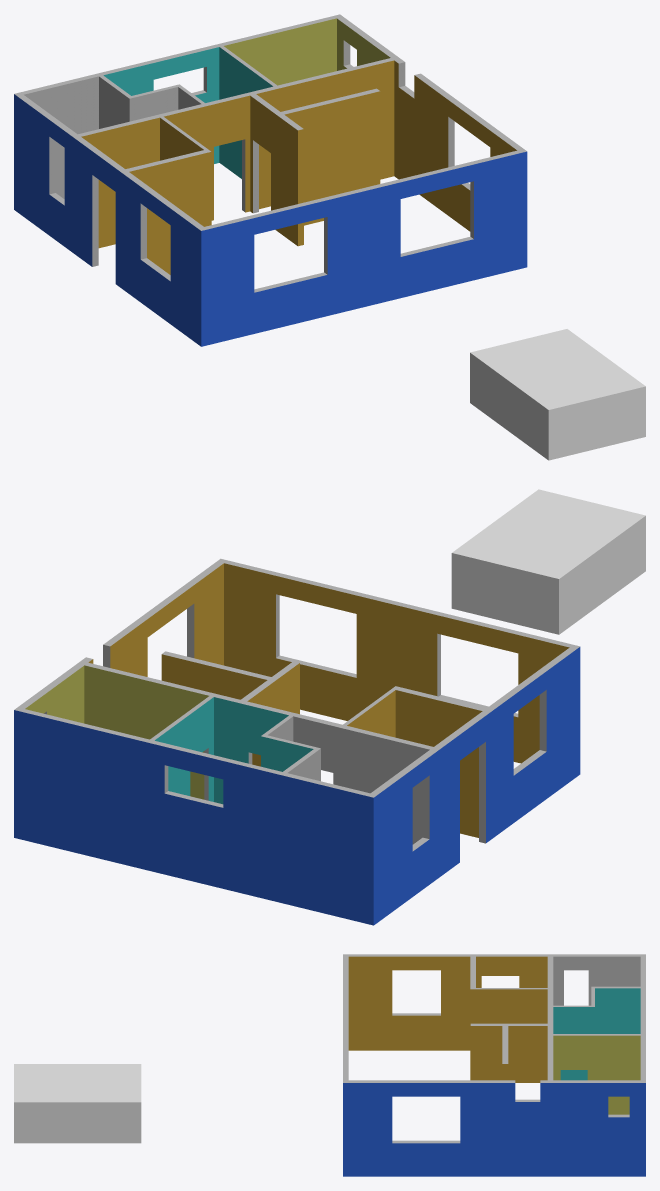
File: FloorWall1 1.glb
The picture shows the model from 3 angles, top to bottom: view 1: azimuth 30°, elevation 25°; view 2: azimuth 150°, elevation 25°; view 3: azimuth 270°, elevation 25°; orthographic projection. The views are drawn at different scales.
Visible parts, largest first — view 1: Wall1, Box048; view 2: Wall1, Box048; view 3: Wall1, Box048.
Part boxes in pixels (x1,y1,x2,y2): Wall1: [14, 14, 527, 346]; Box048: [470, 329, 645, 460]; Wall1: [14, 558, 580, 925]; Box048: [451, 489, 645, 634]; Wall1: [343, 954, 645, 1176]; Box048: [14, 1064, 141, 1143].
Size of the model in its own units: 7.95 by 2.7 by 16.5.
7 materials, 1 textured.
